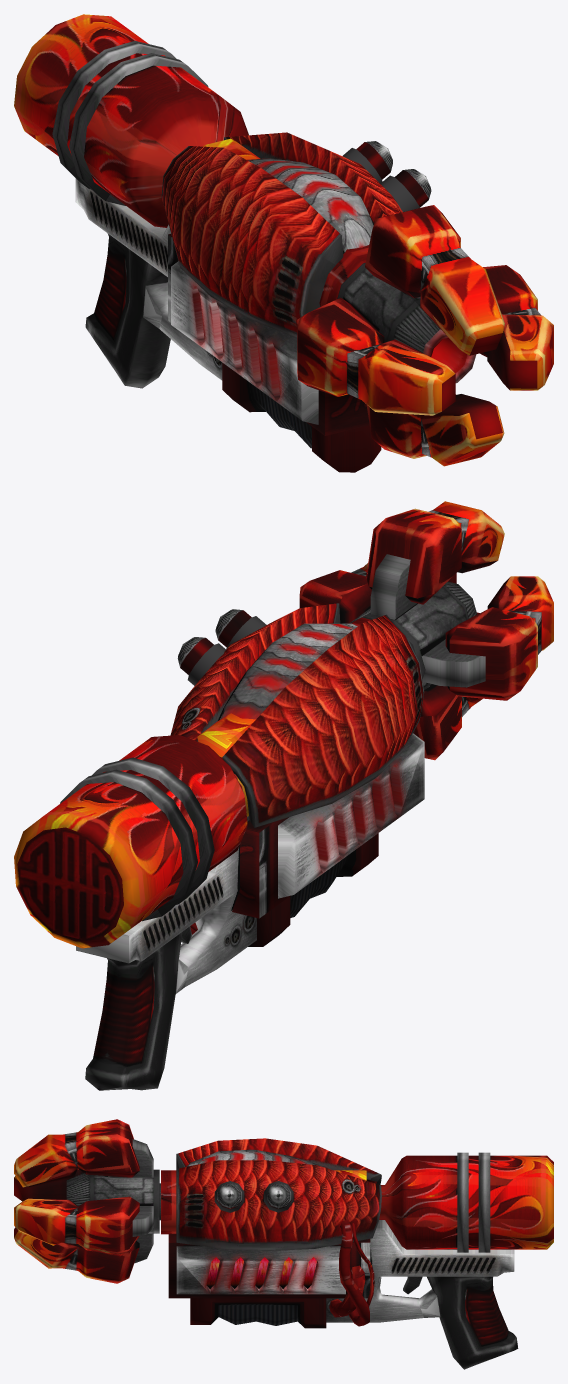
File: magma.fbx
3 renders of one model, top to bottom at view 1: azimuth 30°, elevation 25°; view 2: azimuth 150°, elevation 25°; view 3: azimuth 270°, elevation 25°, orthographic. The views are drawn at different scales.
Parts seen in each view (by area): view 1: Magma_Rifle_resources_assets_2140:Magma_Rifle_resources_asse (×2); view 2: Magma_Rifle_resources_assets_2140:Magma_Rifle_resources_asse (×2); view 3: Magma_Rifle_resources_assets_2140:Magma_Rifle_resources_asse (×2).
Boxes of the visible parts, <box> form: Magma_Rifle_resources_assets_2140:Magma_Rifle_resources_asse (×2): <box>14,14,553,472</box>; Magma_Rifle_resources_assets_2140:Magma_Rifle_resources_asse (×2): <box>14,501,553,1090</box>; Magma_Rifle_resources_assets_2140:Magma_Rifle_resources_asse (×2): <box>14,1119,553,1369</box>.
Size of the model in its own units: 0.2392 by 0.386 by 0.7836.
